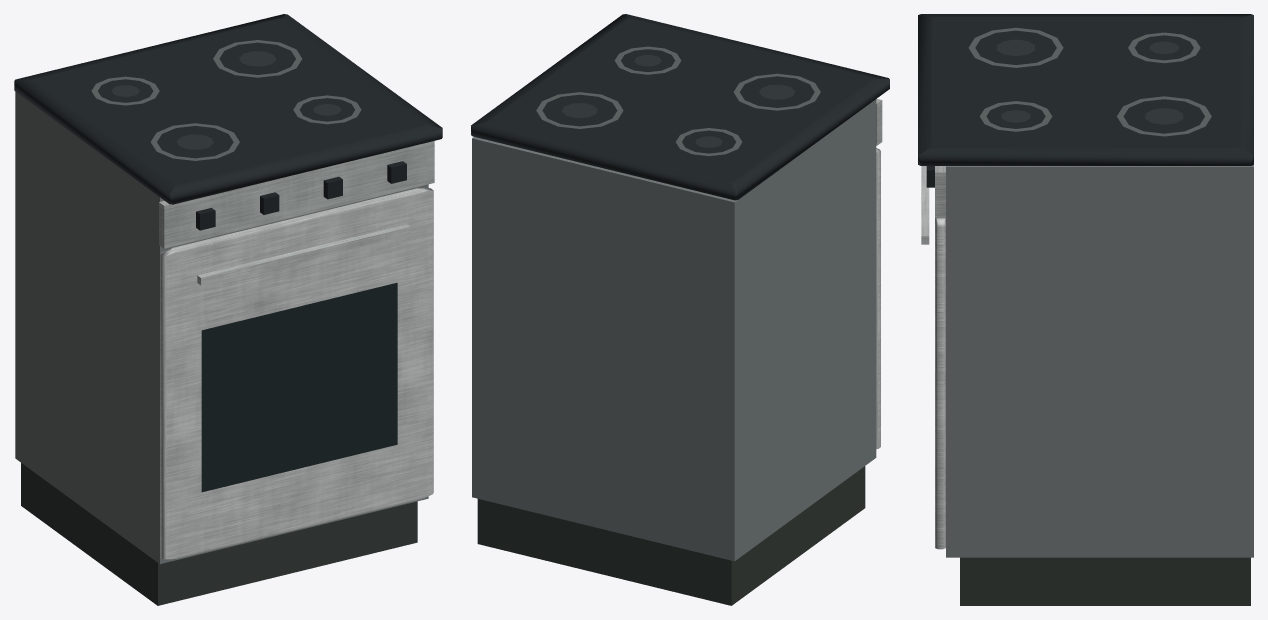
The model's file is kitchen_range.glb.
3 renders of one model, left to right at view 1: azimuth 30°, elevation 25°; view 2: azimuth 150°, elevation 25°; view 3: azimuth 270°, elevation 25°, orthographic. The views are drawn at different scales.
Visible parts, largest first — view 1: kitchen_range; view 2: kitchen_range; view 3: kitchen_range.
Boxes of the visible parts, x1,y1,x2,y2 form: kitchen_range: (14,14,442,605); kitchen_range: (471,14,889,605); kitchen_range: (918,14,1253,605).
Bounding box in the file's own units: 0.6 × 0.9 × 0.6.
Materials: 3 (1 with a texture image).
